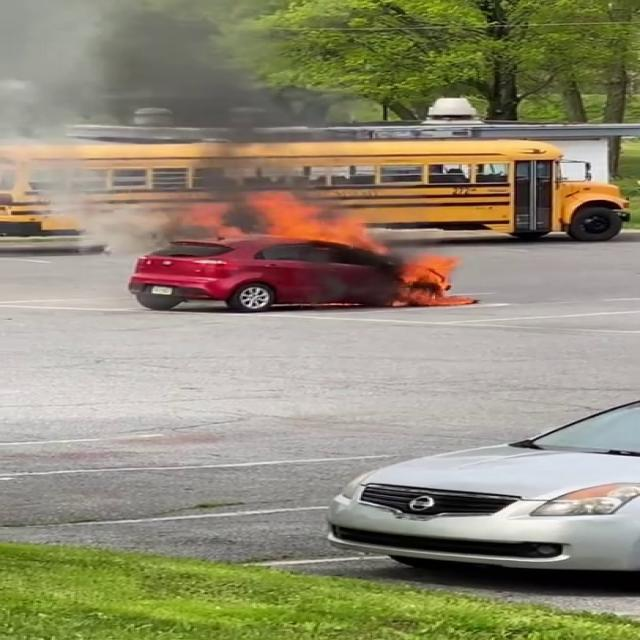Fire: (245, 191, 390, 245), (394, 249, 467, 304)
Smoke: (1, 0, 340, 213)
